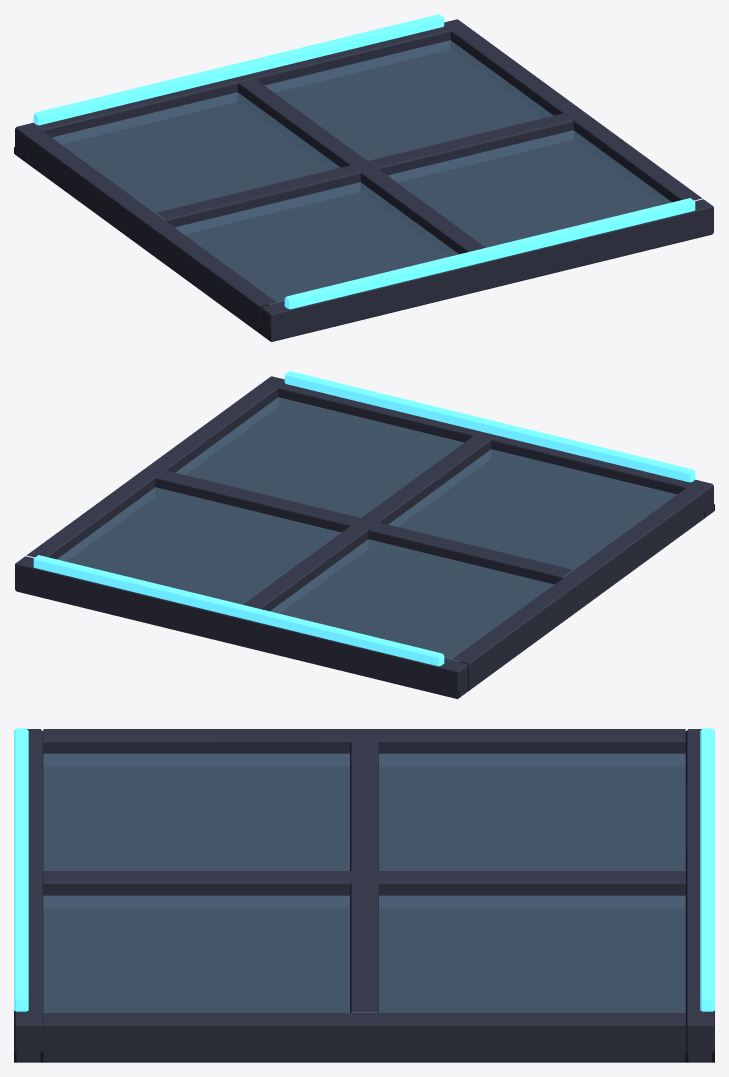
File: roof.skylight.w3.d3.glb
The picture shows the model from 3 angles, top to bottom: view 1: azimuth 30°, elevation 25°; view 2: azimuth 150°, elevation 25°; view 3: azimuth 270°, elevation 25°; orthographic projection. The views are drawn at different scales.
Parts seen in each view (by area): view 1: roof.skylight.w3.d3; view 2: roof.skylight.w3.d3; view 3: roof.skylight.w3.d3.
Part boxes in pixels (x1,y1,x2,y2): roof.skylight.w3.d3: (14, 14, 713, 341); roof.skylight.w3.d3: (15, 371, 714, 698); roof.skylight.w3.d3: (14, 728, 714, 1062).
Size of the model in its own units: 3 by 0.2503 by 3.
